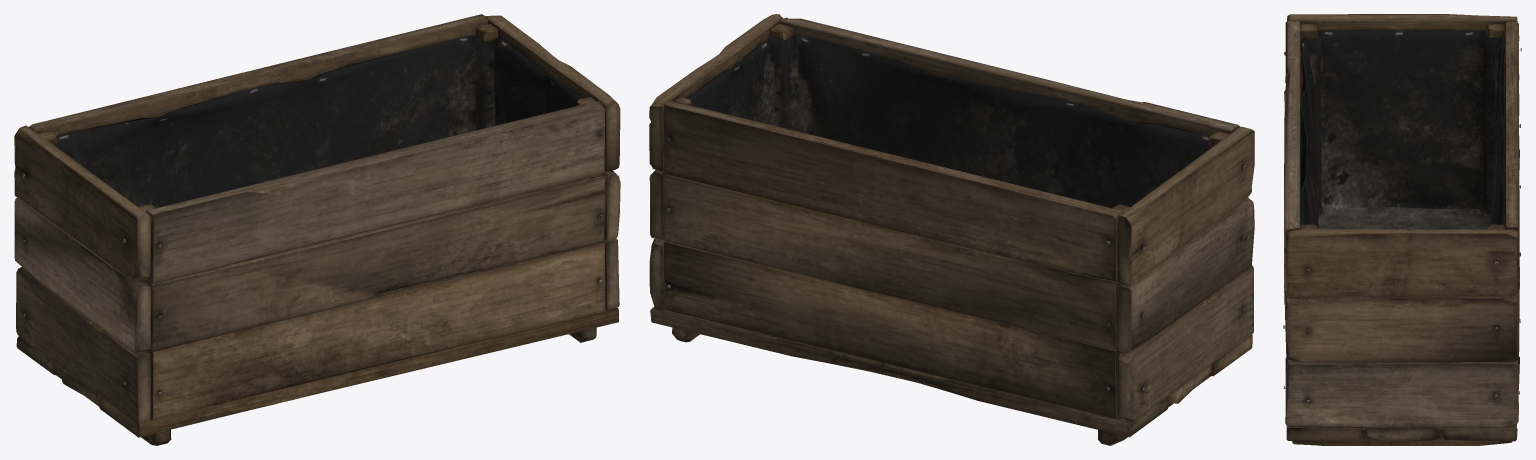
Rendered from planter.glb.
3 views of the same model, side by side, from view 1: azimuth 30°, elevation 25°; view 2: azimuth 150°, elevation 25°; view 3: azimuth 270°, elevation 25° (orthographic). The views are drawn at different scales.
Parts seen in each view (by area): view 1: planter; view 2: planter; view 3: planter.
Boxes of the visible parts, x1,y1,x2,y2 form: planter: [14, 14, 620, 445]; planter: [649, 14, 1254, 445]; planter: [1283, 14, 1521, 445].
Size of the model in its own units: 0.9132 by 0.4255 by 0.4141.
Materials: 1 (1 with a texture image).
